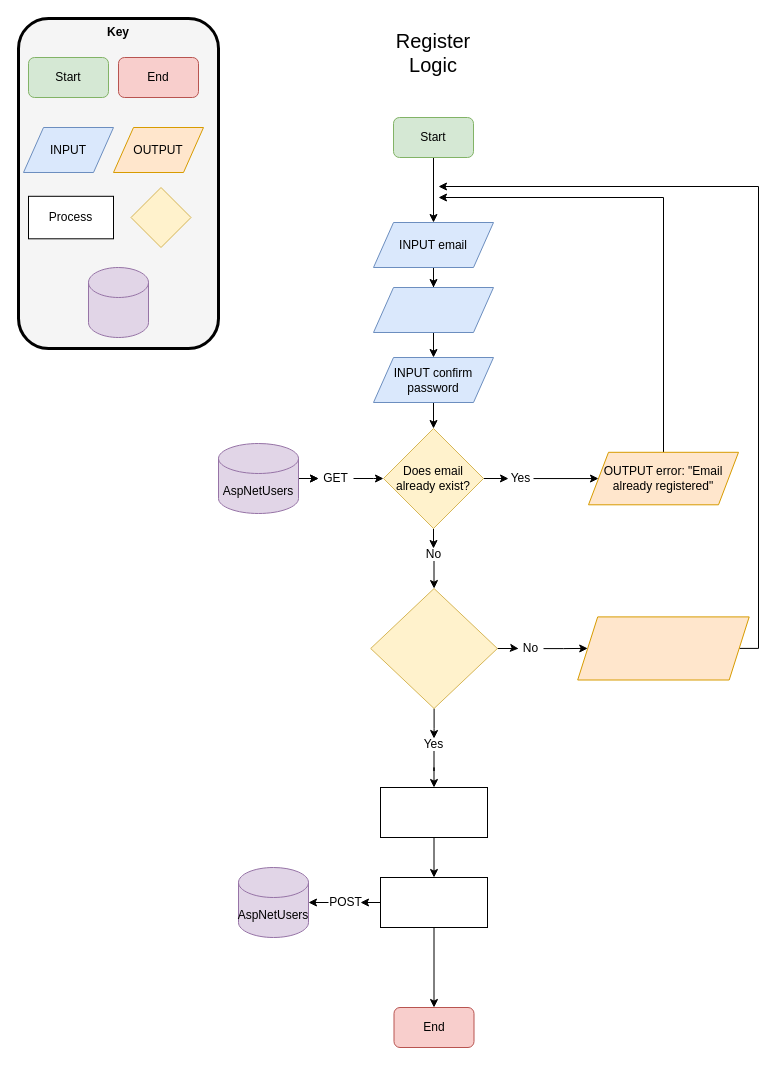
The diagram is 784 pixels wide and 1065 high, and some of its shapes have lost their labels. The box of each missing label's shape, as (x1, y1, x2, y2) in pixels:
Add the user to the database: (380, 876, 488, 928)
Database: (88, 266, 148, 338)
Decision: (130, 186, 191, 248)
Do password and confirm password match?: (370, 588, 497, 708)
INPUT password: (372, 286, 494, 332)
OUTPUT error: "Passwords do not match": (577, 616, 749, 680)
Register the user and take them to the landing page: (380, 786, 488, 838)
